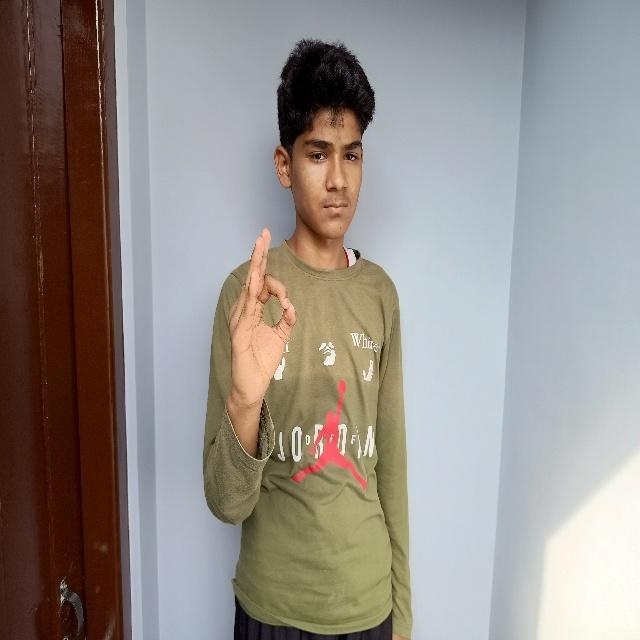Okay: (218, 225, 306, 433)
